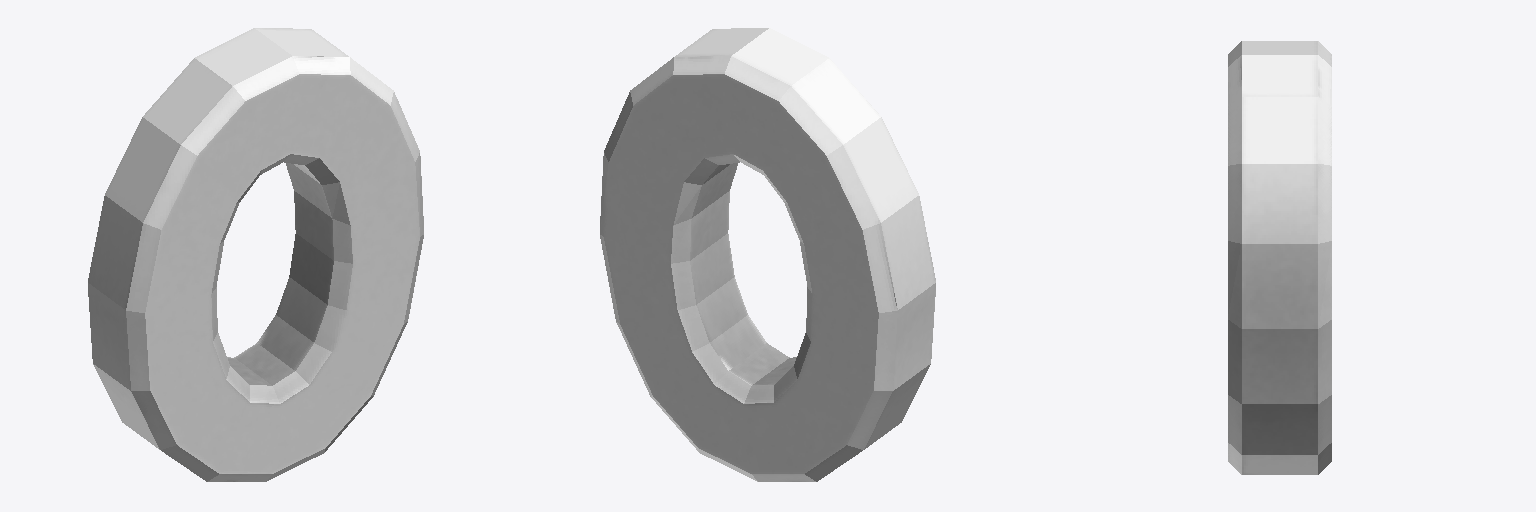
3 renders of one model, left to right at view 1: azimuth 30°, elevation 25°; view 2: azimuth 150°, elevation 25°; view 3: azimuth 270°, elevation 25°, orthographic.
Visible parts, largest first — view 1: Number_0; view 2: Number_0; view 3: Number_0.
Part boxes in pixels (x1,y1,x2,y2): Number_0: (88,28,423,481); Number_0: (600,28,935,481); Number_0: (1228,41,1331,474).
Bounding box in the file's own units: 19.42 × 26.1 × 5.91.
1 materials, 1 textured.